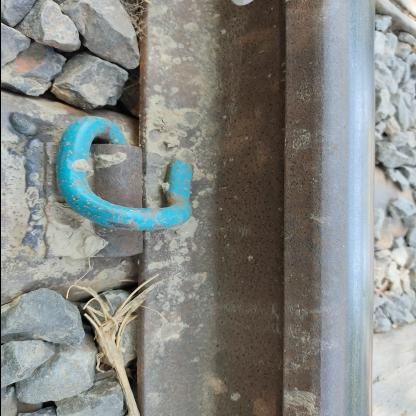Non Defective: (12, 70, 218, 290)
